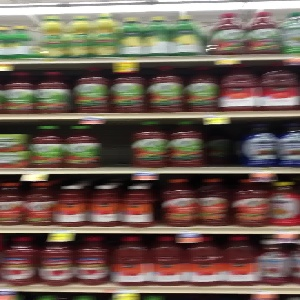void: (202, 116, 245, 169), (100, 119, 134, 168)
